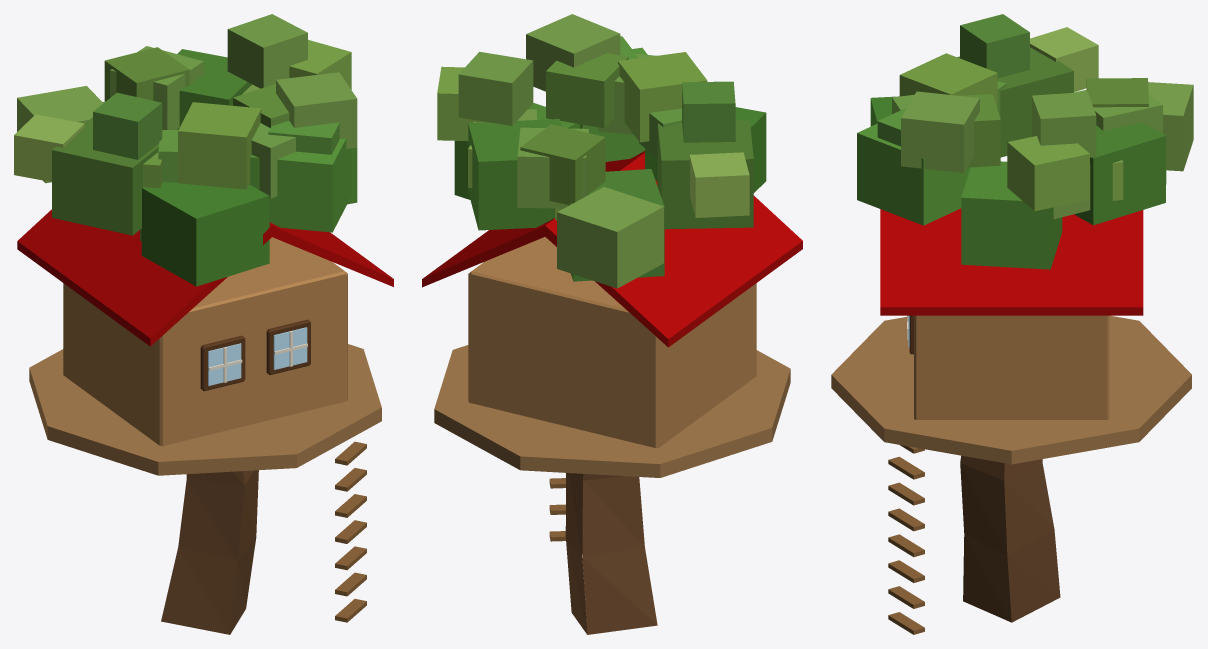
The model's file is home_treehouse.glb.
3 renders of one model, left to right at view 1: azimuth 30°, elevation 25°; view 2: azimuth 150°, elevation 25°; view 3: azimuth 270°, elevation 25°, orthographic. The views are drawn at different scales.
Parts seen in each view (by area): view 1: home_treehouse_foliage, home_treehouse_wood, home_treehouse_plain, home_treehouse_bark, home_treehouse_glass; view 2: home_treehouse_foliage, home_treehouse_wood, home_treehouse_plain, home_treehouse_bark; view 3: home_treehouse_foliage, home_treehouse_wood, home_treehouse_plain, home_treehouse_bark.
Boxes of the visible parts, x1,y1,x2,y2 form: home_treehouse_foliage: (14,14,357,286); home_treehouse_wood: (29,237,381,622); home_treehouse_plain: (17,209,393,346); home_treehouse_bark: (161,470,258,634); home_treehouse_glass: (208,327,307,385); home_treehouse_foliage: (437,14,766,288); home_treehouse_wood: (434,237,790,541); home_treehouse_plain: (422,151,802,347); home_treehouse_bark: (565,473,657,634); home_treehouse_foliage: (857,14,1193,269); home_treehouse_wood: (831,315,1191,634); home_treehouse_plain: (880,208,1143,315); home_treehouse_bark: (960,455,1060,622).
Bounding box in the file's own units: 4.88 × 7.94 × 4.82.
